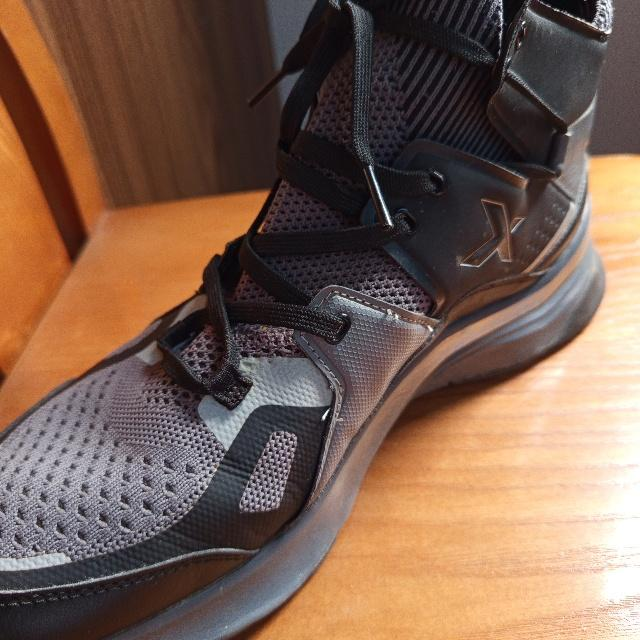broken-error: (385, 305, 400, 321)
